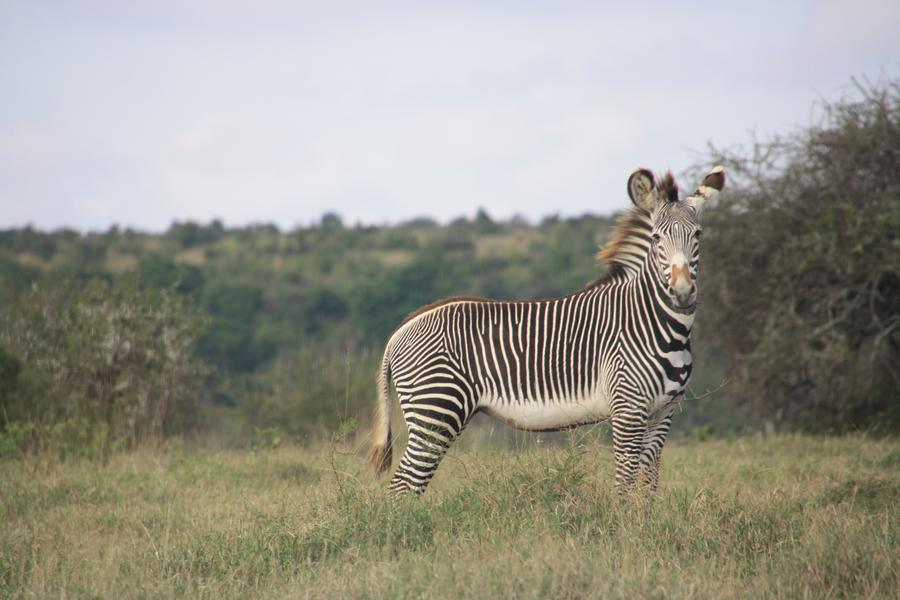zebra_grevys: (369, 288, 665, 407)
